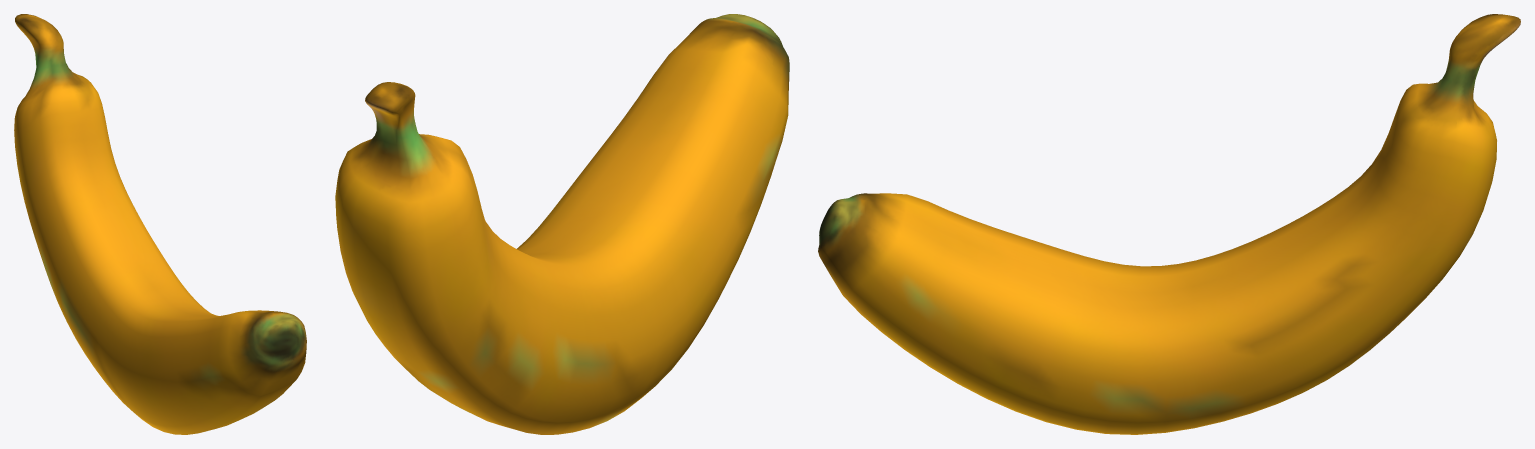
Rendered from Banana.fbx.
The picture shows the model from 3 angles, left to right: view 1: azimuth 30°, elevation 25°; view 2: azimuth 150°, elevation 25°; view 3: azimuth 270°, elevation 25°; orthographic projection. The views are drawn at different scales.
Parts seen in each view (by area): view 1: Banana; view 2: Banana; view 3: Banana.
Part boxes in pixels (x1=…): Banana: x1=14, y1=14, x2=306, y2=434; Banana: x1=335, y1=14, x2=789, y2=434; Banana: x1=818, y1=14, x2=1520, y2=434.
Bounding box in the file's own units: 284 × 800 × 1243.
Materials: 1 (1 with a texture image).
